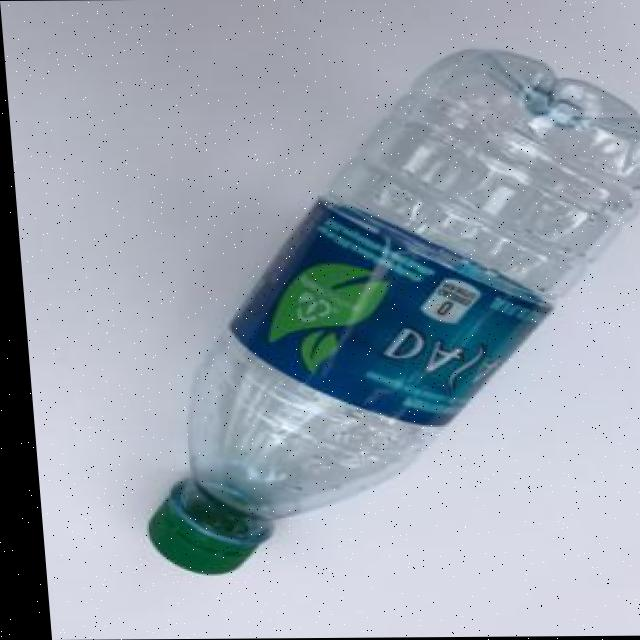plastic: (102, 41, 640, 580)
